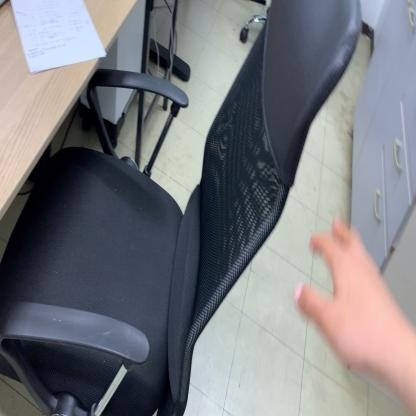chair: (0, 0, 366, 416)
